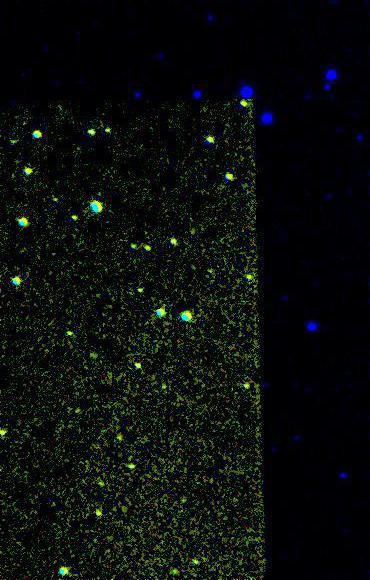star: (179, 549, 209, 579)
